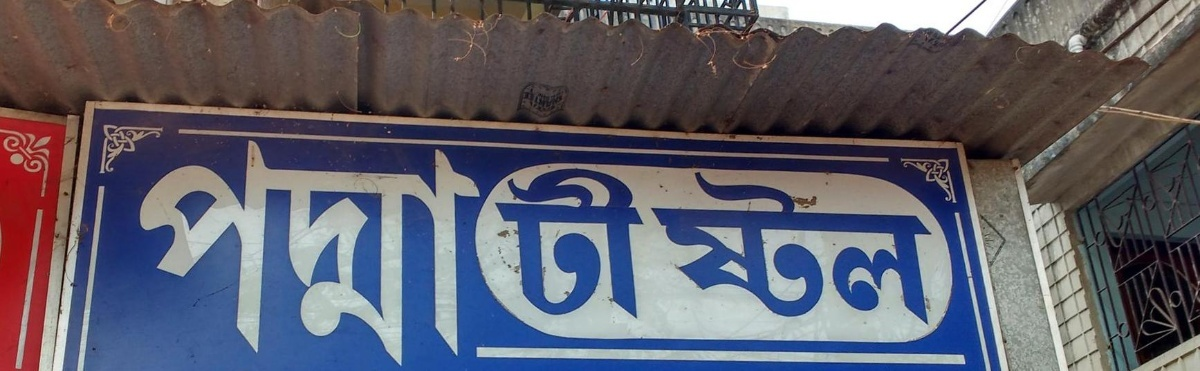text: (145, 134, 160, 369), (161, 134, 176, 369), (177, 134, 192, 369), (193, 134, 208, 369), (209, 134, 224, 369), (225, 134, 240, 369), (241, 134, 256, 369), (257, 134, 272, 369), (273, 134, 288, 369), (289, 134, 304, 369), (305, 134, 320, 369), (321, 134, 336, 369), (337, 134, 352, 369), (353, 134, 368, 369), (369, 134, 384, 369), (385, 134, 400, 369), (401, 134, 416, 369), (417, 134, 432, 369), (433, 134, 448, 369), (449, 134, 464, 369), (465, 134, 480, 369), (657, 164, 672, 329), (673, 164, 688, 329), (689, 164, 704, 329), (705, 164, 720, 329), (721, 164, 736, 329), (737, 164, 752, 329), (753, 164, 768, 329), (769, 164, 784, 329), (785, 164, 800, 329), (801, 164, 816, 329), (817, 164, 832, 329), (833, 164, 848, 329), (849, 164, 864, 329), (865, 164, 880, 329), (881, 164, 896, 329), (897, 164, 912, 329), (913, 164, 928, 329), (497, 164, 512, 328), (513, 164, 528, 328), (529, 164, 544, 328), (545, 164, 560, 328), (561, 164, 576, 328), (577, 164, 592, 328), (593, 164, 608, 328), (609, 164, 624, 328), (625, 164, 640, 328), (646, 164, 656, 329), (641, 164, 651, 328), (929, 164, 936, 329), (491, 164, 496, 328), (481, 134, 483, 369)
